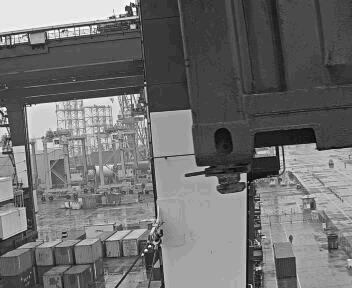twist_lock_1: (152, 161, 211, 202)
